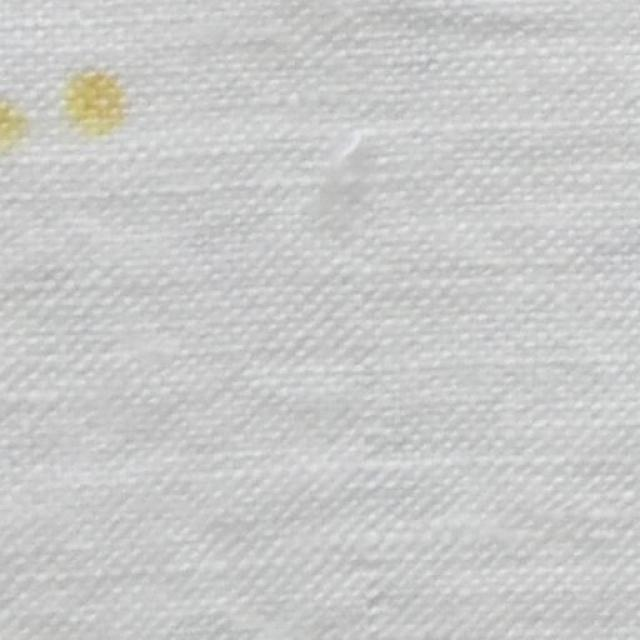Stain: (59, 70, 129, 139), (330, 129, 372, 171), (0, 98, 32, 146)
